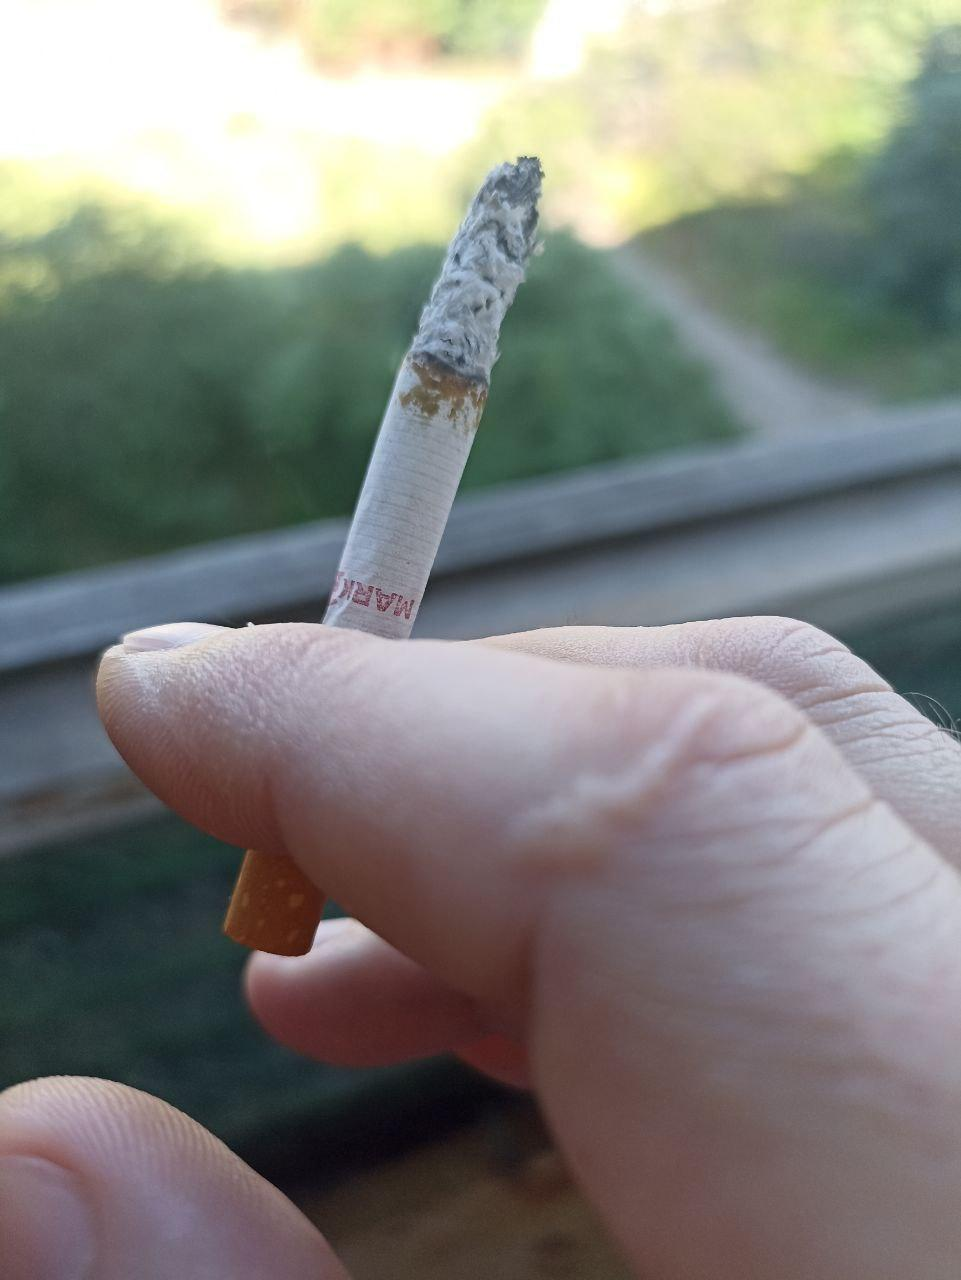cigarette: (221, 158, 544, 954)
